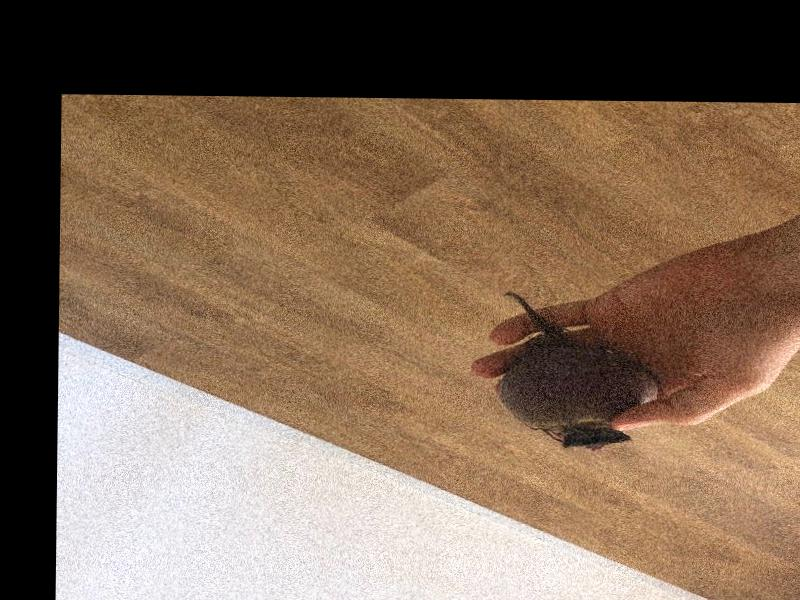Beet: (494, 291, 658, 447)
